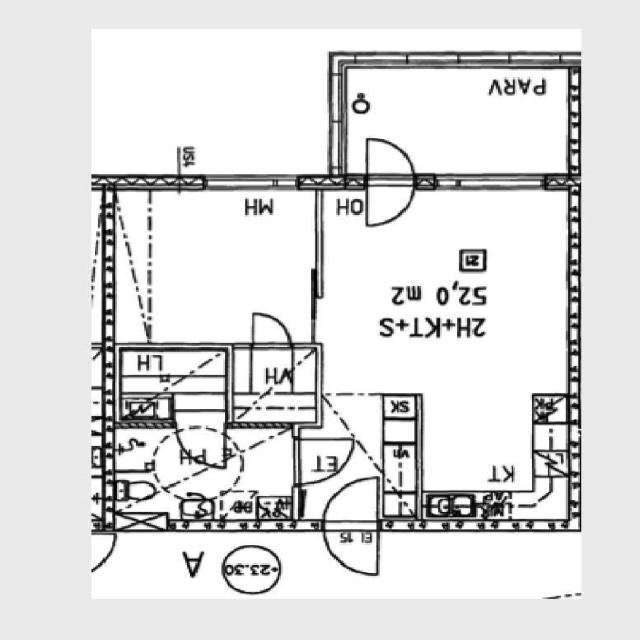door: (322, 479, 381, 526), (362, 176, 414, 229), (324, 531, 380, 578), (363, 136, 417, 178), (244, 308, 296, 351), (297, 444, 347, 487), (86, 533, 116, 573)
window: (425, 168, 552, 197), (196, 170, 304, 196)
zone: (317, 182, 574, 411), (123, 185, 322, 344), (335, 61, 581, 176), (106, 414, 296, 528), (112, 346, 228, 419), (230, 345, 320, 425), (381, 442, 419, 494)
